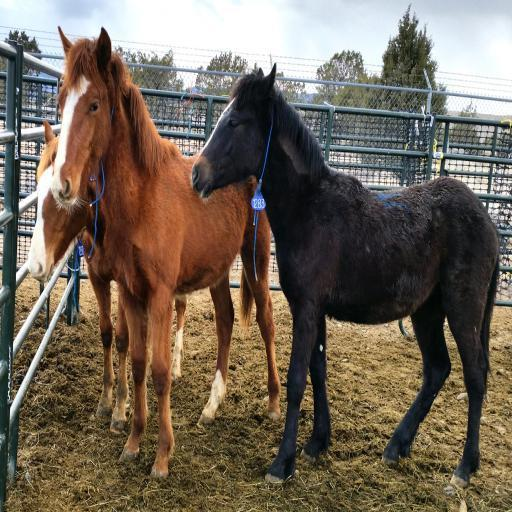horse: (191, 66, 503, 490), (51, 26, 281, 486), (28, 118, 188, 384)
